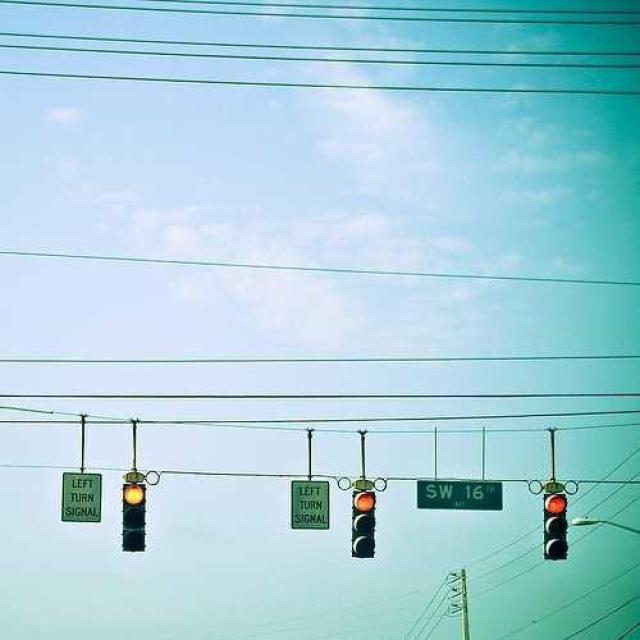Traffic Light -Red-: (120, 475, 148, 554), (541, 489, 571, 562), (350, 486, 378, 558)
Traffic Light -Yellow-: (120, 472, 148, 554)
